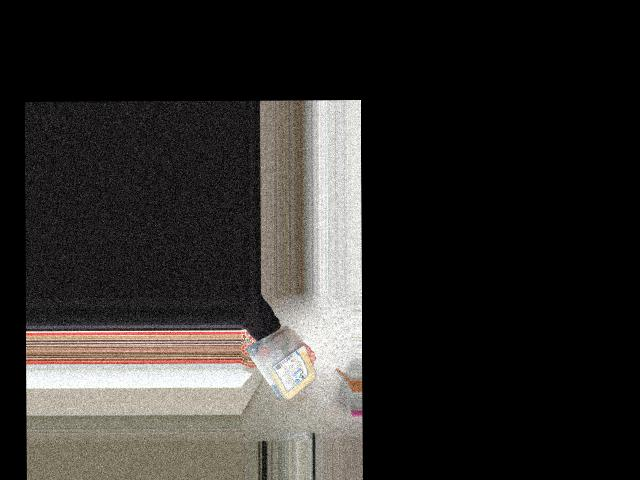cheese: (256, 332, 315, 398)
